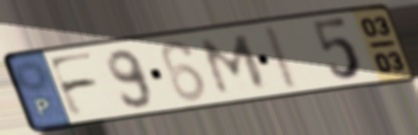5: (309, 14, 368, 83)
6: (156, 37, 212, 104)
9: (103, 47, 157, 110)
F: (44, 49, 103, 120)
I: (263, 22, 303, 93)
M: (198, 32, 270, 97)
